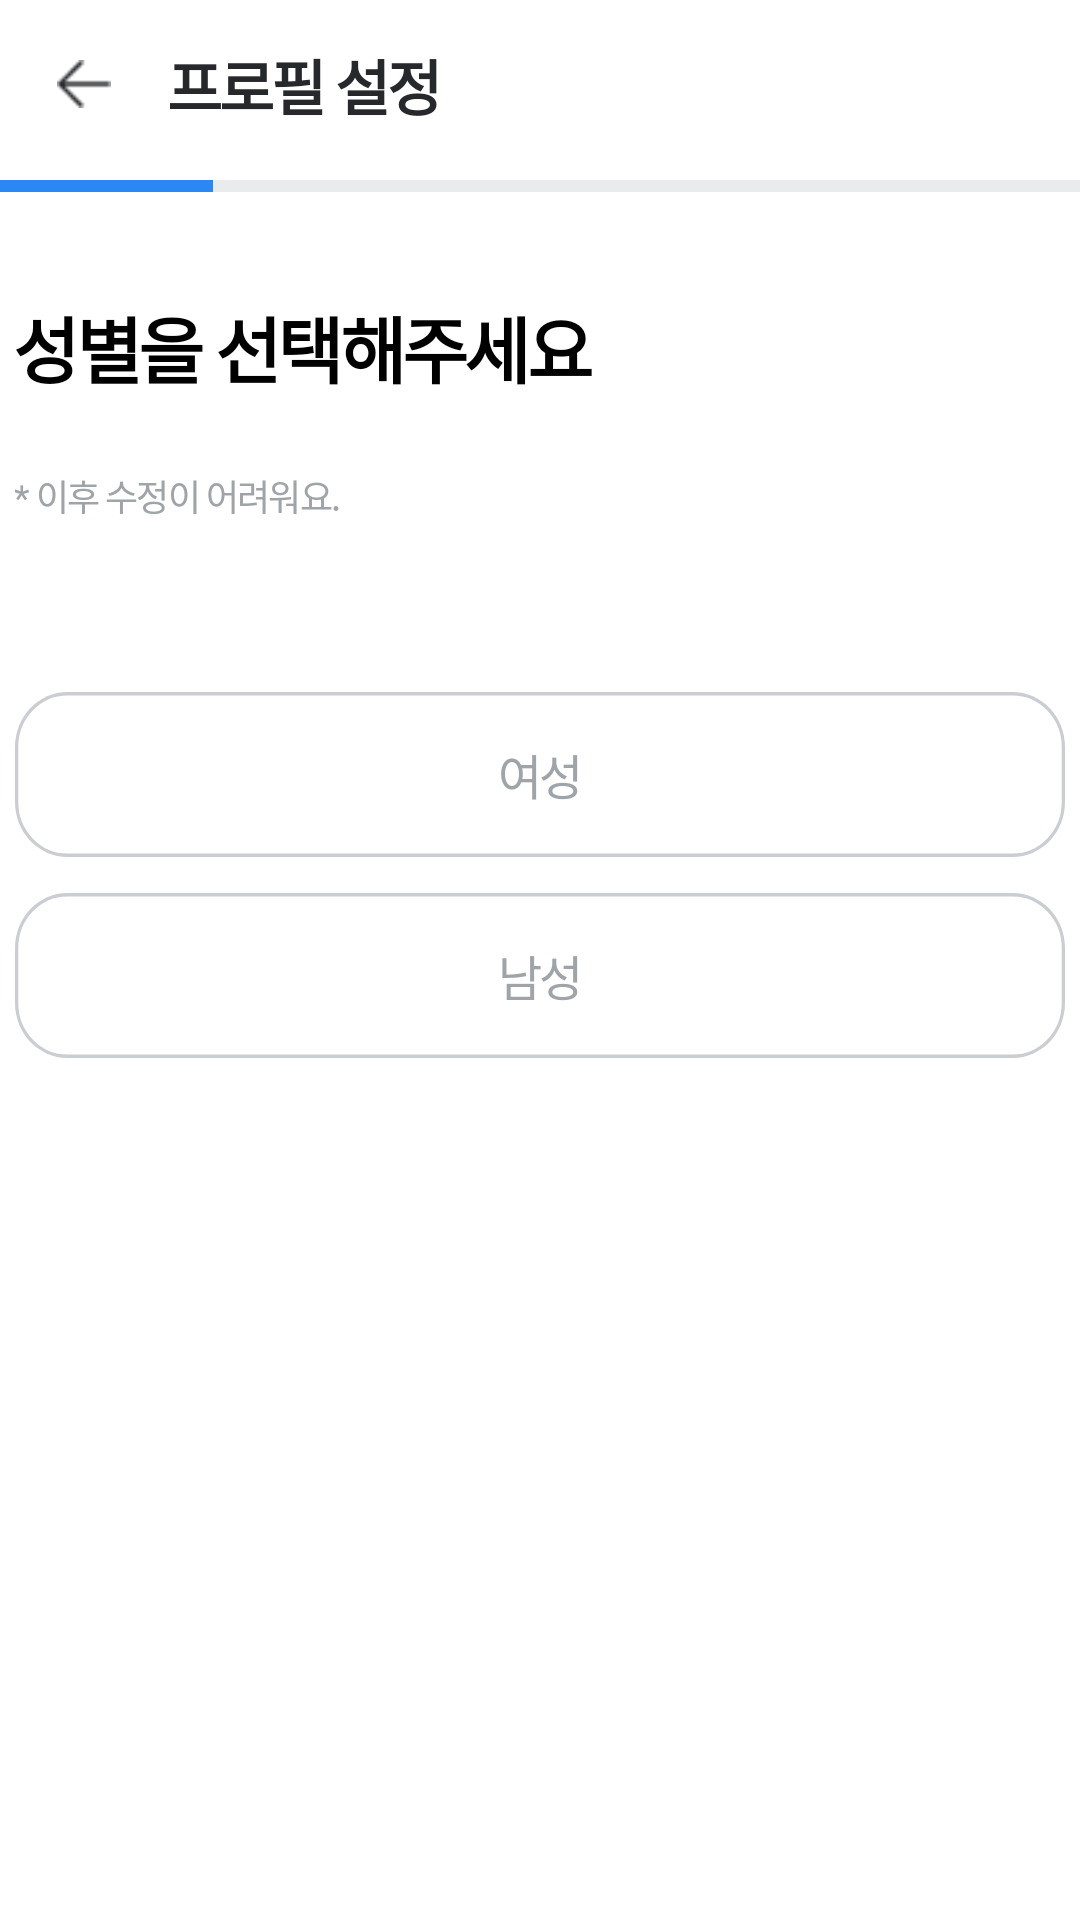

Icons on this 1080×1920 Android screen, each with the point to tap as point (x, y):
backbtn: point (84, 84)
